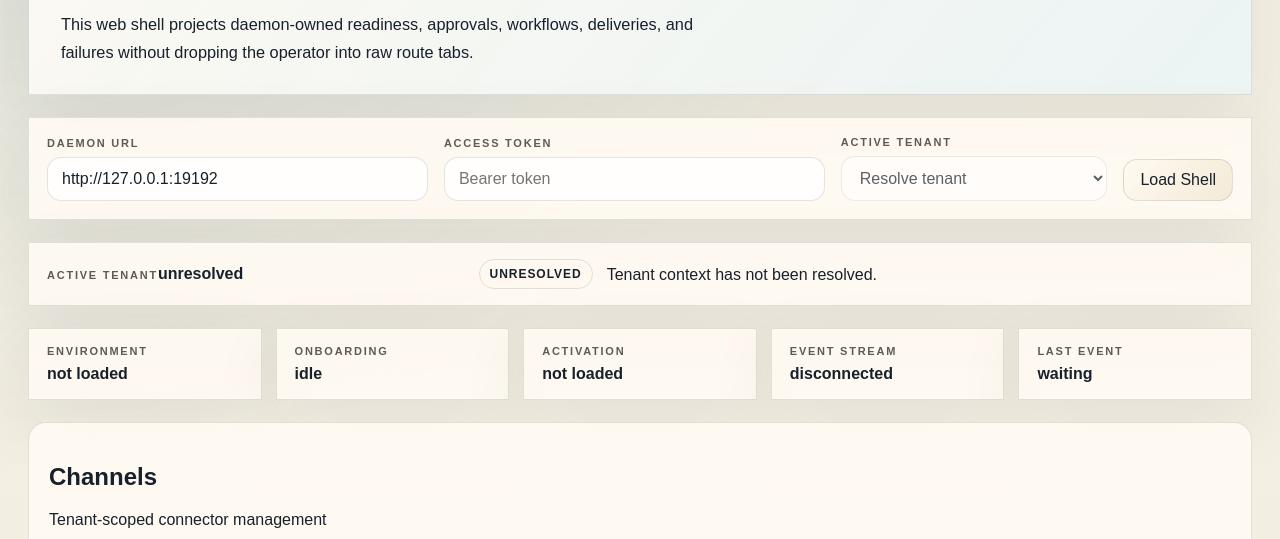
Scenario: App › bootstraps activation when signup has no tenant yet
(page scrolled)
Type "token" into the password field labelled "Access Token". click: (634,180)
box: [444,158,825,202]
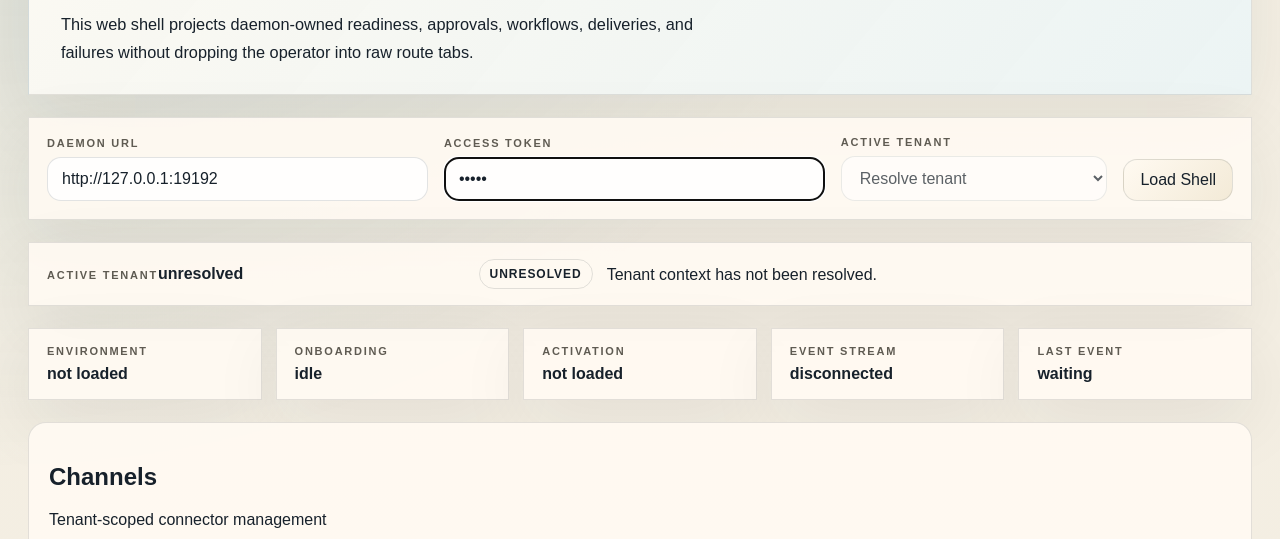
Click the button "Load Shell". click: (1178,180)
box: [1123,160,1233,202]
(page scrolled)
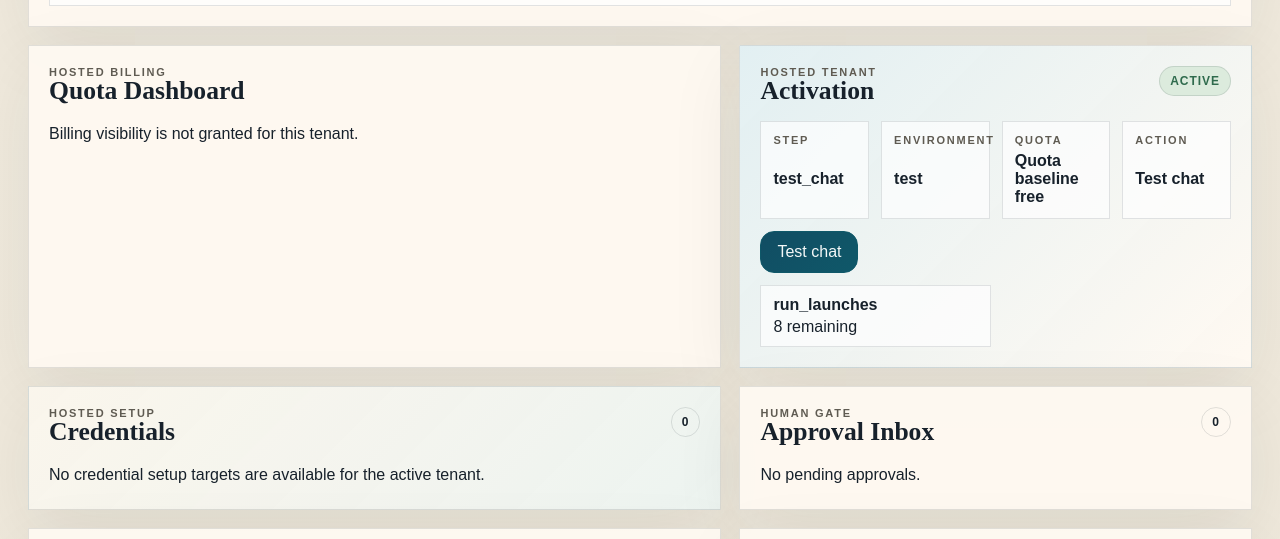
Now the text "Quota baseline free" is shown, box [1015,152,1079,205]
